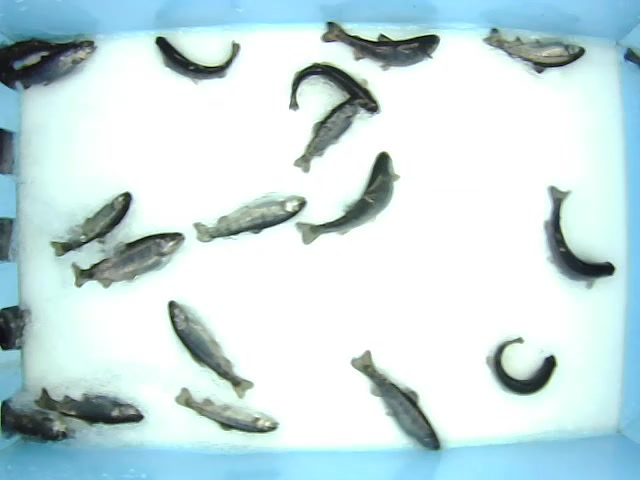fish: (295, 150, 401, 247), (349, 348, 442, 452), (167, 299, 256, 401), (540, 185, 617, 291), (69, 231, 187, 289), (321, 20, 442, 73), (191, 194, 308, 245), (481, 21, 587, 76), (47, 191, 134, 258), (292, 92, 362, 175), (287, 61, 383, 118), (174, 386, 281, 434), (32, 386, 146, 429), (485, 335, 559, 395), (154, 35, 242, 85)
